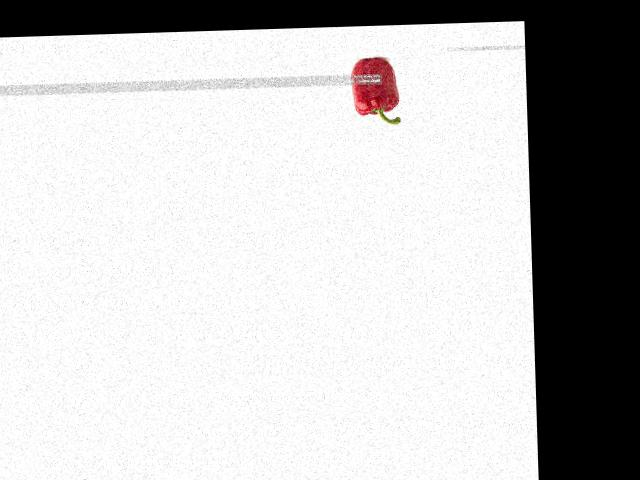bell_pepper: (347, 58, 407, 129)
